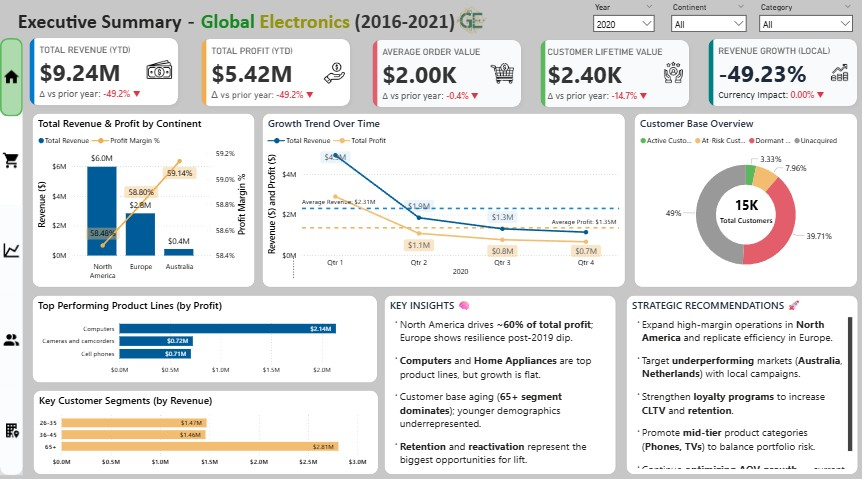

This screenshot's page, from the dashboard's own definition file:
{"tool":"powerbi","page":{"name":"Executive Summary","canvas":[1600,900],"ordinal":0},"visuals":[{"type":"textbox","box":[28.3,8.3,870,60],"z":0},{"type":"cardVisual","fields":{"Data":["customers.Customer Average Order Value"]},"box":[677.1,54.3,300,150],"z":0,"group":"g3"},{"type":"cardVisual","fields":{"Data":["customers.Avg CLTV"]},"box":[988.6,54.3,300,150],"z":0,"group":"g4"},{"type":"cardVisual","fields":{"Data":["sales_final.Total Profit YTD"]},"box":[361.4,55.7,300,150],"z":0,"group":"g2"},{"type":"cardVisual","fields":{"Data":["exchange_rates_final.Revenue Growth (Local Currency) %"]},"box":[1300,55.7,300,150],"z":0,"group":"g5"},{"type":"cardVisual","fields":{"Data":["sales_final.Total Revenue YTD"]},"box":[42,58,300,150],"z":0,"group":"g1"},{"type":"shape","box":[0,70.4,42.3,809.2],"z":0,"group":"g6"},{"type":"donutChart","title":"Customer Base Overview","fields":{"Y":["customers.Active Customers","customers.At-Risk Customers","customers.Dormant Customers","customers.Unacquired"]},"box":[1174.3,208.6,414.3,322.9],"z":0,"group":"g7"},{"type":"image","title":"Logo","box":[827.3,7.8,87,61],"z":1000},{"type":"image","box":[266.3,99.4,57.1,61.4],"z":1000,"group":"g1"},{"type":"image","box":[903.4,101,52.9,57.1],"z":1000,"group":"g3"},{"type":"image","box":[1220.8,101,52.9,52.9],"z":1000,"group":"g4"},{"type":"image","box":[592.2,108.1,52.9,48.6],"z":1000,"group":"g2"},{"type":"image","box":[1532.9,108.6,42.9,42.9],"z":1000,"group":"g5"},{"type":"actionButton","box":[0,212,42,167.5],"z":1000,"group":"g6"},{"type":"card","fields":{"Values":["customers.Total Customers"]},"box":[1312.4,337.2,138.1,104.3],"z":1000,"group":"g7"},{"type":"group","id":"g1","title":"Card_1","box":[42,58,300,150],"z":2000},{"type":"actionButton","box":[0,379.5,42,167.5],"z":2000,"group":"g6"},{"type":"group","id":"g2","title":"Card_2","box":[361.4,55.7,300,150],"z":3000},{"type":"actionButton","box":[0,712.5,42,167.5],"z":3000,"group":"g6"},{"type":"group","id":"g3","title":"Card_3","box":[677.1,54.3,300,150],"z":4000},{"type":"actionButton","box":[0,545,42,167.5],"z":4000,"group":"g6"},{"type":"group","id":"g4","title":"Card_4","box":[988.6,54.3,300,150],"z":5000},{"type":"actionButton","box":[0,69.9,42.3,145.3],"z":5000,"group":"g6"},{"type":"group","id":"g5","title":"Card_5","box":[1300,55.7,300,150],"z":6000},{"type":"group","id":"g6","title":"Page_nav","box":[0,69.9,42.3,810.1],"z":7000},{"type":"slicer","fields":{"Values":["Calendar.Year"]},"box":[1088.6,0,132.9,68.6],"z":8000},{"type":"slicer","fields":{"Values":["customers.Continent"]},"box":[1232.9,0,158.6,68.6],"z":9000},{"type":"lineClusteredColumnComboChart","title":"Total Revenue & Profit by Continent","fields":{"Category":["customers.Continent"],"Y":["sales_final.Total Revenue"],"Y2":["sales_final.Profit Margin %"]},"box":[60,208.3,413.3,323.3],"z":10000},{"type":"lineChart","title":"Growth Trend Over Time","fields":{"Category":["Calendar.Year","Calendar.Date.Variation.Date Hierarchy.Quarter"],"Y":["sales_final.Total Revenue","sales_final.Total Profit"]},"box":[485.7,208.6,672.9,322.9],"z":11000},{"type":"group","id":"g7","title":"Pie","box":[1174.3,208.6,414.3,322.9],"z":12000},{"type":"clusteredBarChart","title":"Top Performing Product Lines (by Profit)","fields":{"Category":["products.Category"],"Y":["sales_final.Total Profit"]},"box":[60,545.7,640,162.9],"z":13000},{"type":"clusteredBarChart","title":"Key Customer Segments (by Revenue)","fields":{"Category":["customers.Age Group"],"Y":["sales_final.Total Revenue"]},"box":[61.4,722.9,640,157.1],"z":14000},{"type":"textbox","title":"KEY INSIGHTS 🧠","box":[711.4,547.1,430,332.9],"z":15000},{"type":"textbox","title":"STRATEGIC RECOMMENDATIONS 🚀","box":[1158.6,547.1,430,332.9],"z":16000},{"type":"slicer","fields":{"Values":["products.Category"]},"box":[1395.7,0,192.9,68.6],"z":17000}]}

Visuals, with their boxes in screenshot pixels (x1, y1, x2, y2), scaled from the page's 1600x900 canvas onto the 862x479 screenshot:
textbox: box(15, 4, 484, 36)
cardVisual - customers.Customer Average Order Value: box(365, 29, 526, 109)
cardVisual - customers.Avg CLTV: box(533, 29, 694, 109)
cardVisual - sales_final.Total Profit YTD: box(195, 30, 356, 109)
cardVisual - exchange_rates_final.Revenue Growth (Local Currency) %: box(700, 30, 861, 109)
cardVisual - sales_final.Total Revenue YTD: box(23, 31, 184, 111)
shape: box(0, 37, 23, 468)
"Customer Base Overview" donutChart: box(633, 111, 856, 283)
"Logo" image: box(446, 4, 493, 37)
image: box(143, 53, 174, 86)
image: box(487, 54, 515, 84)
image: box(658, 54, 686, 82)
image: box(319, 58, 348, 83)
image: box(826, 58, 849, 81)
actionButton: box(0, 113, 23, 202)
card - customers.Total Customers: box(707, 179, 781, 235)
"Card_1" group: box(23, 31, 184, 111)
actionButton: box(0, 202, 23, 291)
"Card_2" group: box(195, 30, 356, 109)
actionButton: box(0, 379, 23, 468)
"Card_3" group: box(365, 29, 526, 109)
actionButton: box(0, 290, 23, 379)
"Card_4" group: box(533, 29, 694, 109)
actionButton: box(0, 37, 23, 115)
"Card_5" group: box(700, 30, 861, 109)
"Page_nav" group: box(0, 37, 23, 468)
slicer - Calendar.Year: box(586, 0, 658, 37)
slicer - customers.Continent: box(664, 0, 750, 37)
"Total Revenue & Profit by Continent" lineClusteredColumnComboChart: box(32, 111, 255, 283)
"Growth Trend Over Time" lineChart: box(262, 111, 624, 283)
"Pie" group: box(633, 111, 856, 283)
"Top Performing Product Lines (by Profit)" clusteredBarChart: box(32, 290, 377, 377)
"Key Customer Segments (by Revenue)" clusteredBarChart: box(33, 385, 378, 468)
"KEY INSIGHTS 🧠" textbox: box(383, 291, 615, 468)
"STRATEGIC RECOMMENDATIONS 🚀" textbox: box(624, 291, 856, 468)
slicer - products.Category: box(752, 0, 856, 37)
